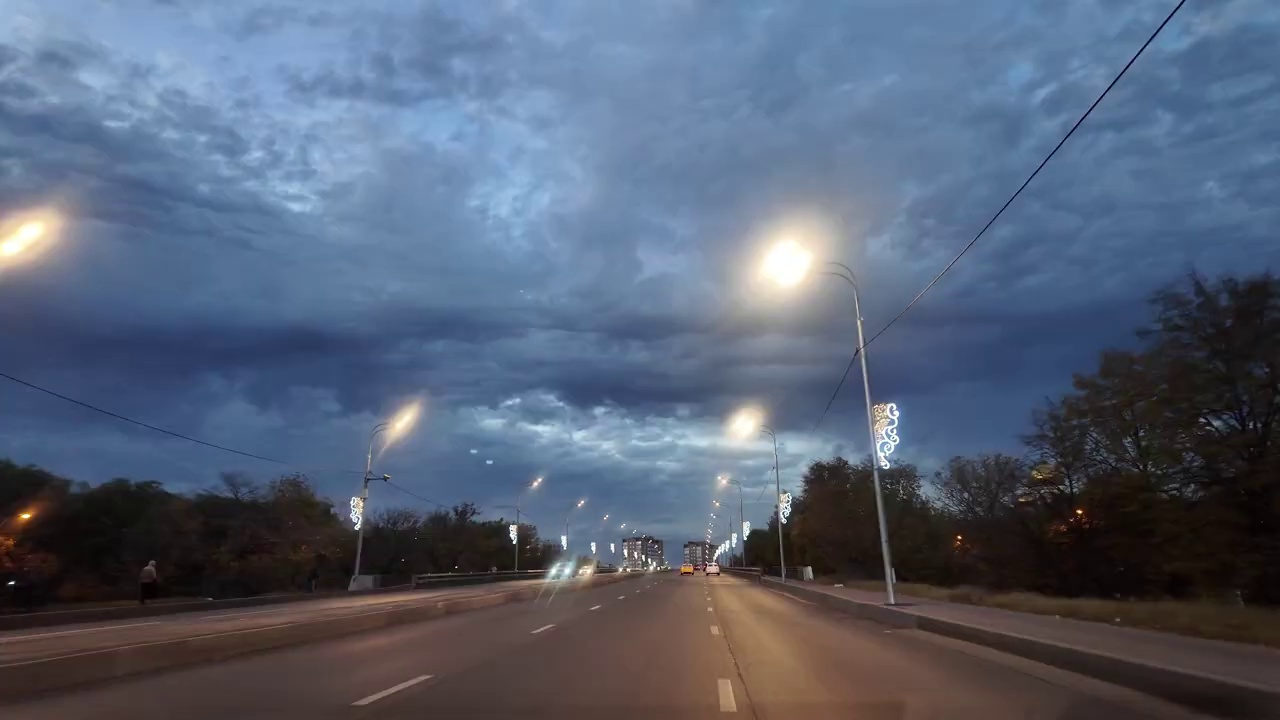acesa: (0, 211, 65, 275), (760, 234, 817, 295), (380, 404, 421, 449), (732, 406, 767, 444)
